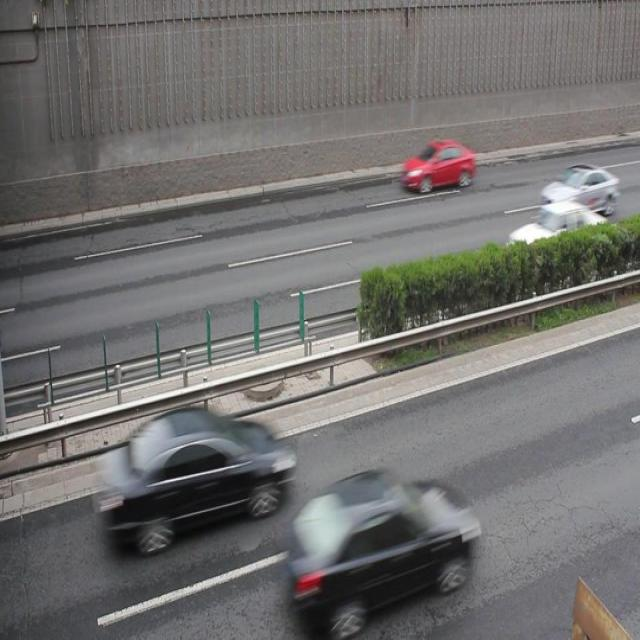car: (289, 467, 478, 640), (95, 408, 286, 553), (503, 200, 618, 271), (401, 136, 475, 194), (540, 162, 617, 215)
